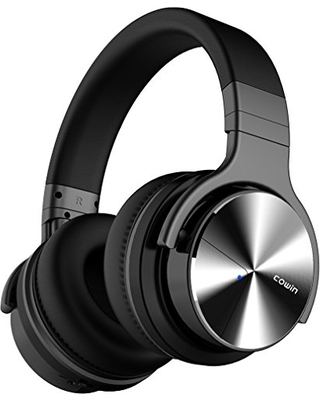Headphone: (5, 6, 320, 394)
